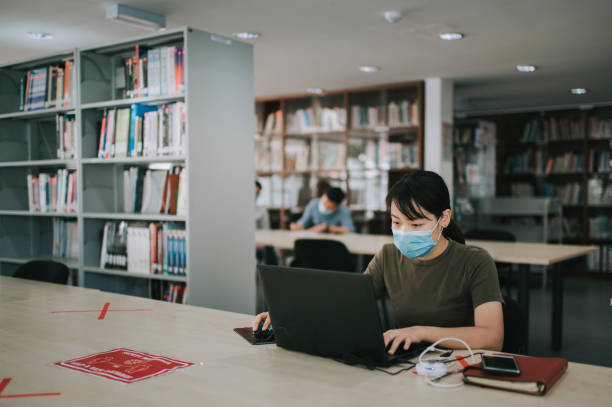with mask: (385, 167, 446, 270), (317, 186, 348, 223)
